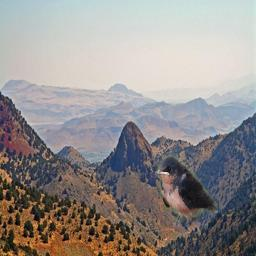Swallow: (155, 155, 218, 227)
